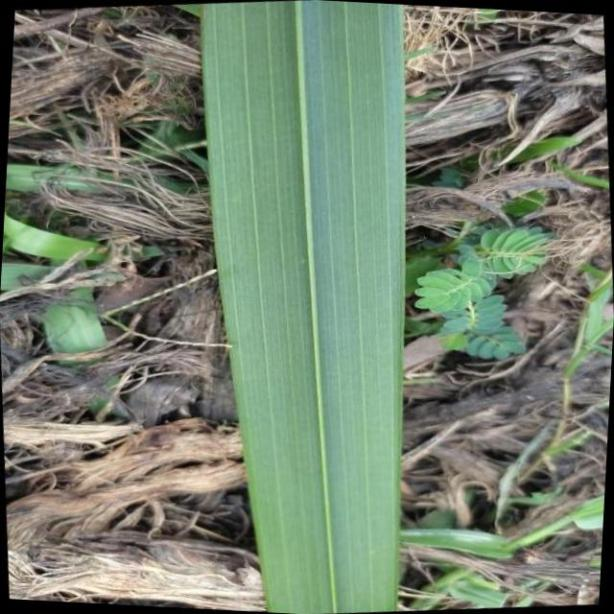Healthy: (200, 3, 411, 601)
